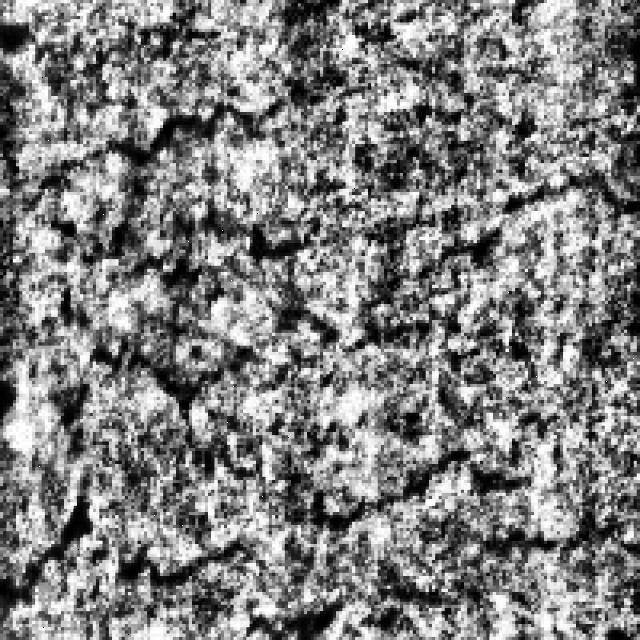Pitted_Surface: (182, 167, 637, 538), (29, 80, 314, 448), (6, 451, 582, 627)
